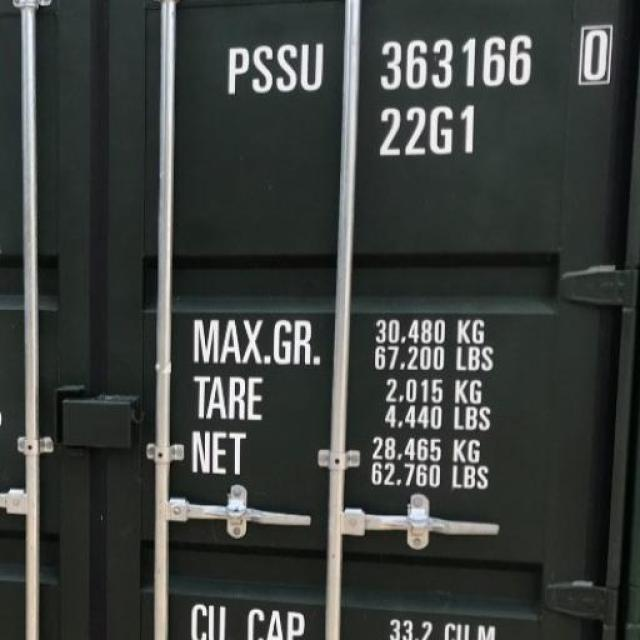ISO: (368, 106, 489, 162)
container_number: (215, 34, 606, 96)
